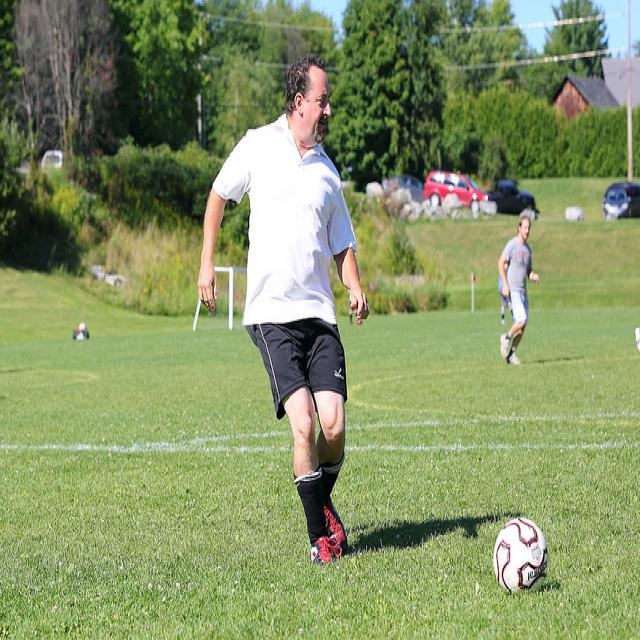Vehicle: (422, 172, 491, 213), (486, 180, 537, 214), (488, 179, 535, 215), (603, 180, 640, 219), (383, 175, 424, 201), (40, 150, 63, 173)
